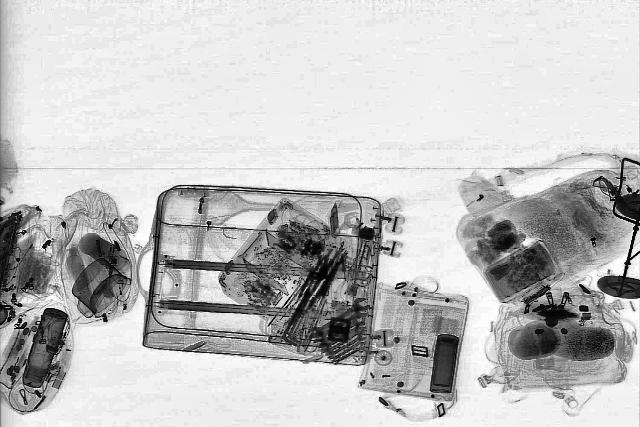Wrench: (296, 295, 378, 341), (328, 343, 370, 367)
